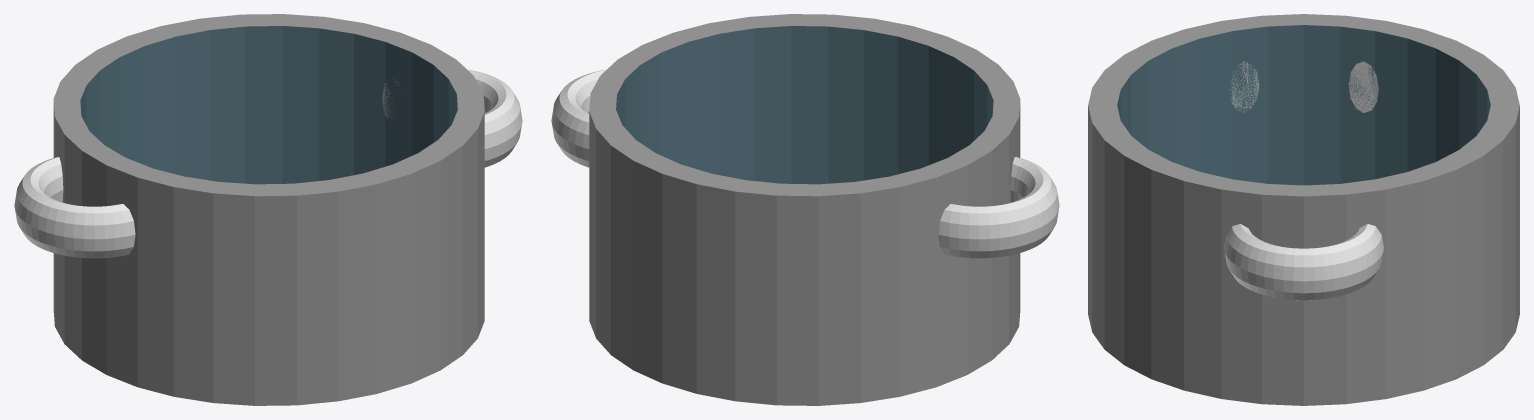
File: Pot.fbx
3 views of the same model, side by side, from view 1: azimuth 30°, elevation 25°; view 2: azimuth 150°, elevation 25°; view 3: azimuth 270°, elevation 25° (orthographic).
Parts seen in each view (by area): view 1: Cylinder, Torus, Torus.001; view 2: Cylinder, Torus, Torus.001; view 3: Cylinder, Torus.001, Torus.
Part boxes in pixels (x1,y1,x2,y2): Cylinder: (53,14,484,405); Torus: (14,157,135,258); Torus.001: (382,69,522,167); Cylinder: (589,14,1020,405); Torus: (938,157,1059,258); Torus.001: (551,69,606,167); Cylinder: (1088,14,1519,405); Torus.001: (1224,224,1383,300); Torus: (1230,61,1378,112).
Bounding box in the file's own units: 260 × 107 × 200.
